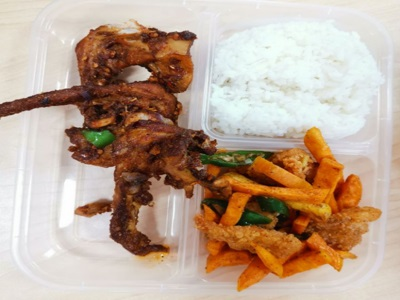r5: (210, 148, 355, 277)
rice: (222, 27, 366, 136)
yt: (65, 23, 186, 260)
